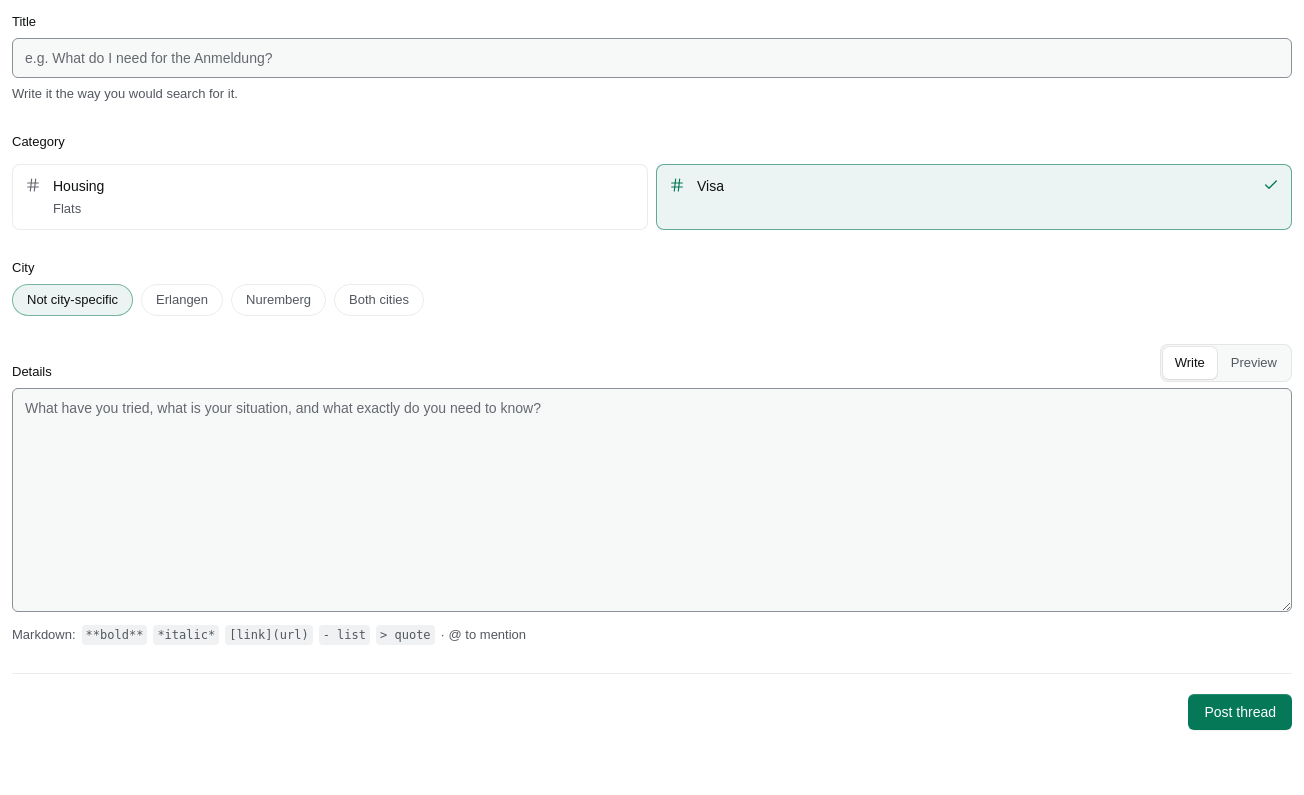
Test: ThreadForm errors › focuses the category radio when only the category is invalid
Click the button "Post thread": point(1240, 712) [1188, 694, 1292, 730]
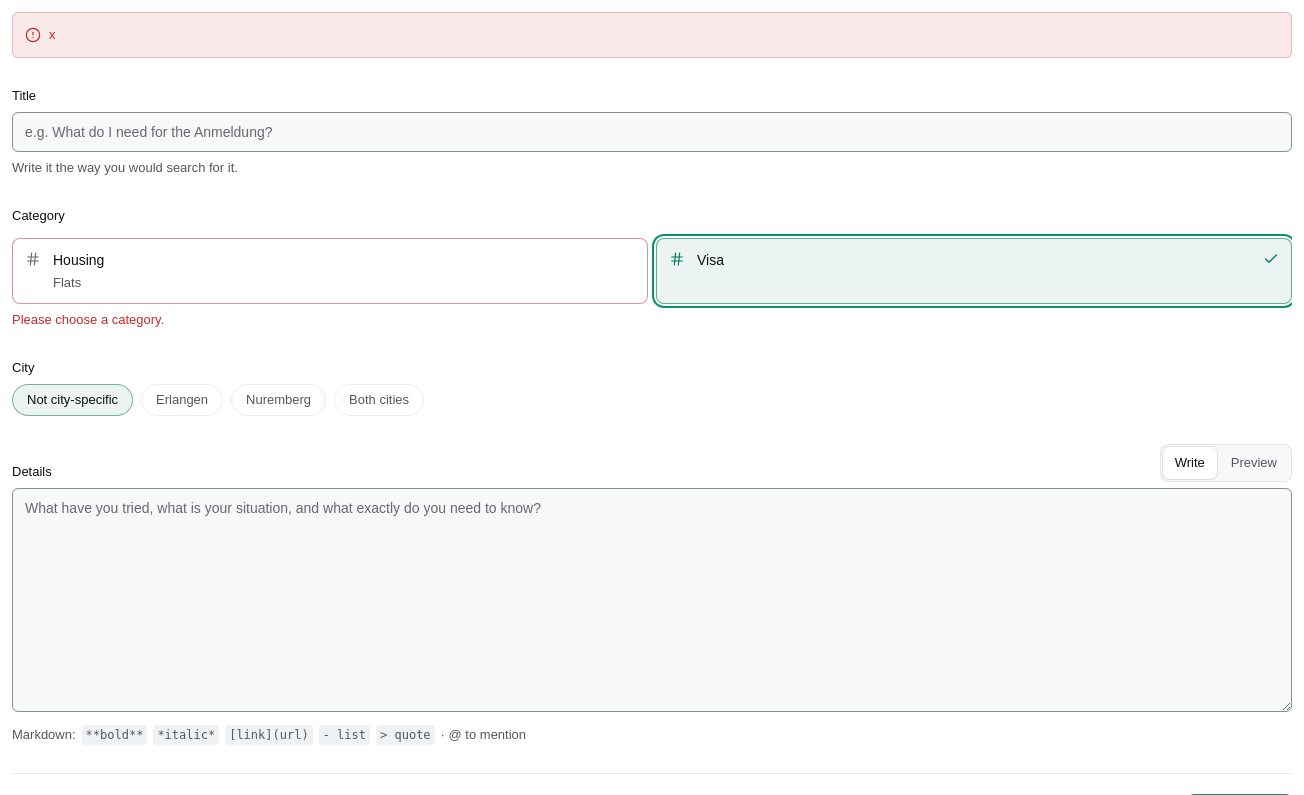
expect the text "Please choose a category." is shown: met, box [12, 312, 164, 327]
